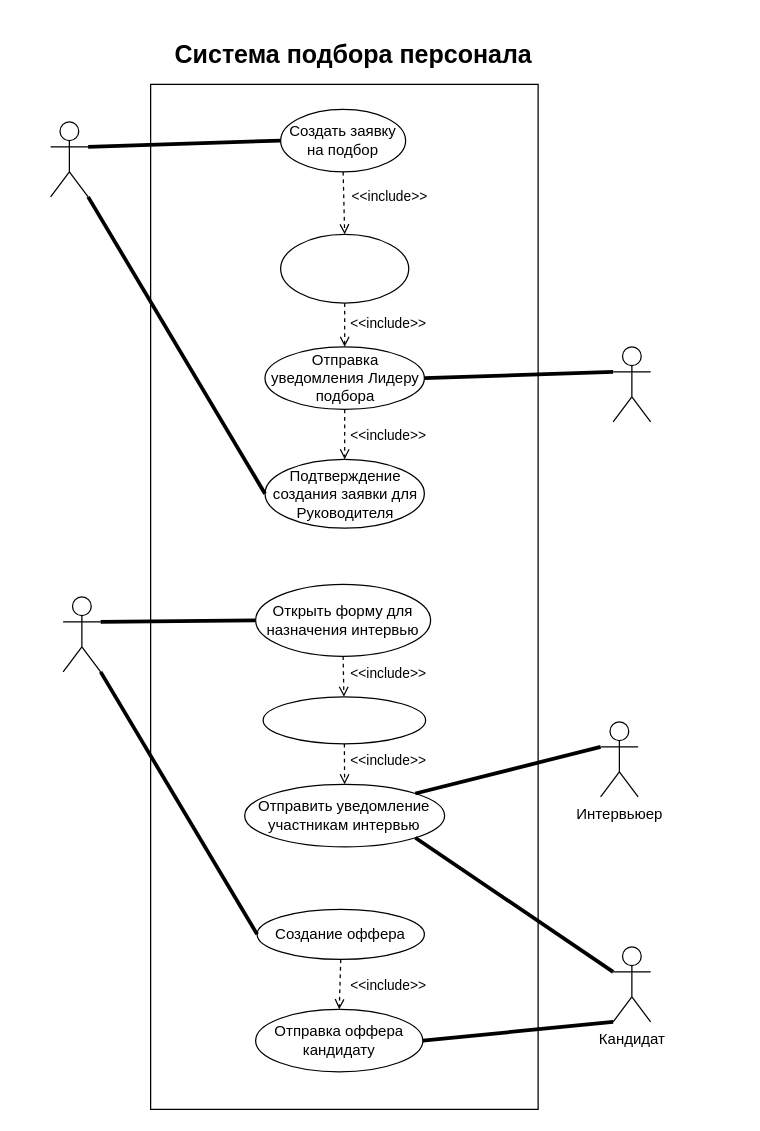
Image size: 760x1131. Some labels were removed from this diagram. Each missing label, with the centre of its shape:
Лидер подбора: pixel 631 384
Назначить интервью: pixel 344 720
Отправка заявки и генерация ID: pixel 344 268
Рекрутер: pixel 81 634
Руководитель: pixel 68 159
